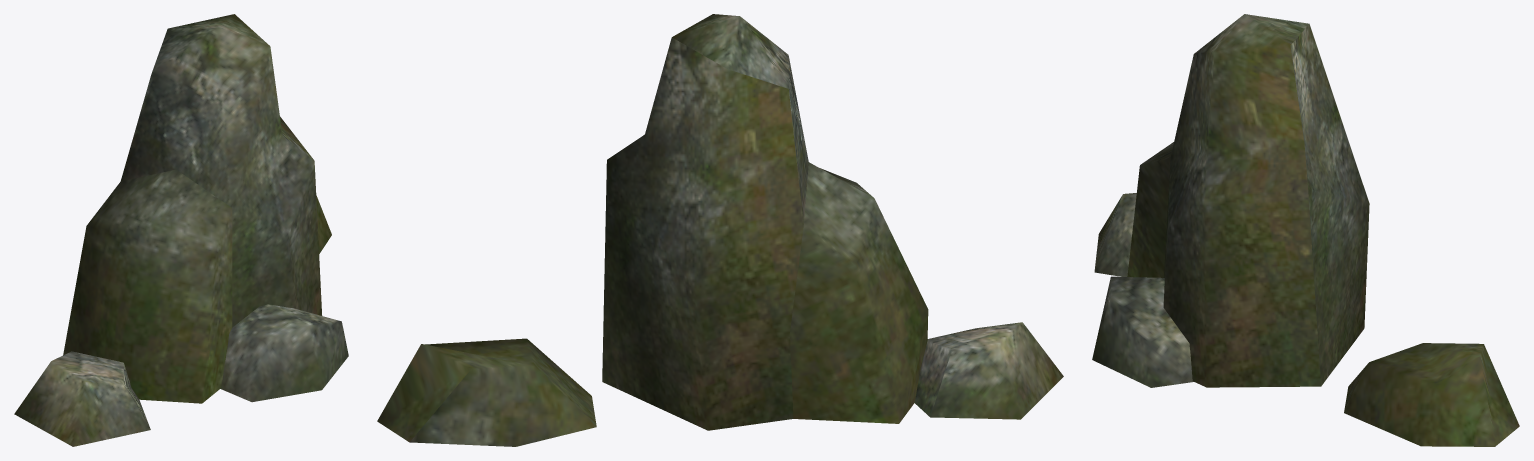
File: zc_jiangxia_shidui02.FBX
The picture shows the model from 3 angles, left to right: view 1: azimuth 30°, elevation 25°; view 2: azimuth 150°, elevation 25°; view 3: azimuth 270°, elevation 25°; orthographic projection. The views are drawn at different scales.
Parts seen in each view (by area): view 1: zc_jiangxia_shidui02; view 2: zc_jiangxia_shidui02; view 3: zc_jiangxia_shidui02.
Part boxes in pixels (x1,y1,x2,y2): zc_jiangxia_shidui02: (14, 14, 348, 446); zc_jiangxia_shidui02: (377, 14, 1063, 446); zc_jiangxia_shidui02: (1092, 14, 1519, 446).
Bounding box in the file's own units: 1.65 × 1.18 × 1.38.
